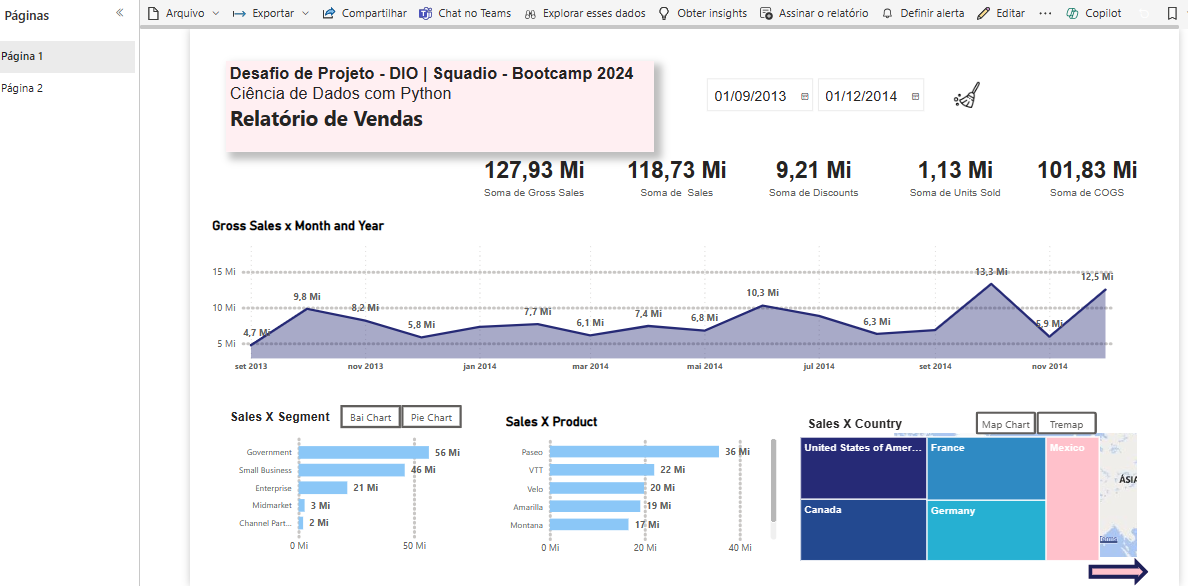

Layout of this report page (visuals, bound fields, positions):
{"tool":"powerbi","page":{"name":"Página 1","canvas":[1280,720],"ordinal":0},"visuals":[{"type":"card","fields":{"Values":["Sum(financials.Gross Sales)"]},"box":[353.4,136.3,184.5,106.1],"z":0},{"type":"textbox","box":[47,41,553.6,117],"z":2000},{"type":"card","fields":{"Values":["Sum(financials.Discounts)"]},"box":[715.2,136.3,183.3,106.1],"z":3000},{"type":"card","fields":{"Values":["Sum(financials. Sales)"]},"box":[537.9,136.3,183.3,106.1],"z":4000},{"type":"card","fields":{"Values":["Sum(financials.Units Sold)"]},"box":[898.5,136.3,183.3,106.1],"z":5000},{"type":"card","fields":{"Values":["Sum(financials.COGS)"]},"box":[1069.7,136.3,183.3,106.1],"z":6000},{"type":"slicer","fields":{"Values":["financials.Date"]},"box":[655.8,53.5,312.4,62.7],"z":7000},{"type":"areaChart","title":"Gross Sales x Month and Year","fields":{"Y":["Sum(financials.Gross Sales)"],"Category":["financials.Date.Variation.Hierarquia de datas.Ano","financials.Date.Variation.Hierarquia de datas.Mês"]},"box":[23.3,243.3,1190,210],"z":8000},{"type":"donutChart","title":"Pie Chart Segment","fields":{"Y":["Sum(financials.Gross Sales)"],"Category":["financials.Segment"]},"box":[46.7,518.3,305,166.7],"z":9000},{"type":"actionButton","title":"Botão - bai","box":[195,486.7,78.3,30],"z":9500},{"type":"clusteredBarChart","title":"Sales X Product","fields":{"Y":["Sum(financials.Gross Sales)"],"Category":["financials.Product"]},"box":[404,496.9,360.6,191.8],"z":10000},{"type":"actionButton","title":"Botão - pie","box":[273.3,486.7,78.3,30],"z":10500},{"type":"clusteredBarChart","title":"Bar Chart Segment","fields":{"Y":["Sum(financials.Gross Sales)"],"Category":["financials.Segment"]},"box":[47.2,517.2,325.1,167.8],"z":11000,"group":"g1"},{"type":"map","title":"Map Chart Country","fields":{"Size":["Sum(financials.Gross Sales)"],"Category":["financials.Country"]},"box":[909,521,318,164],"z":11000},{"type":"group","id":"g1","title":"Grupo 2","box":[47,487.2,325.3,197.8],"z":12000},{"type":"group","id":"g2","title":"Grupo 3","box":[788.7,495,388.3,193.6],"z":13000},{"type":"shape","box":[1162.1,684,77.8,36],"z":14000},{"type":"actionButton","title":"Botão - map","box":[1095,495,78.3,30],"z":14500,"group":"g2"},{"type":"actionButton","title":"Botão - tremap","box":[1016.6,495,78.3,30],"z":14750,"group":"g2"},{"type":"image","box":[983.3,61.7,43.3,46.7],"z":15000},{"type":"textbox","box":[793.9,496.9,208.2,41.7],"z":15000,"group":"g2"},{"type":"treemap","title":"TreeMap Country","fields":{"Values":["Sum(financials.Gross Sales)"],"Group":["financials.Country"]},"box":[788.7,527,388.3,161.7],"z":15500,"group":"g2"},{"type":"textbox","box":[47,487.2,181.8,42],"z":22000,"group":"g1"}]}

Visuals, with their boxes on the page's 1280x720 design canvas (x1, y1, x2, y2). These are canvas units, not pixel positions in the 1188x586 screenshot, which may show the page scaled, cropped or inside an application window:
card - Sum(financials.Gross Sales): <region>353, 136, 538, 242</region>
textbox: <region>47, 41, 601, 158</region>
card - Sum(financials.Discounts): <region>715, 136, 898, 242</region>
card - Sum(financials. Sales): <region>538, 136, 721, 242</region>
card - Sum(financials.Units Sold): <region>898, 136, 1082, 242</region>
card - Sum(financials.COGS): <region>1070, 136, 1253, 242</region>
slicer - financials.Date: <region>656, 54, 968, 116</region>
"Gross Sales x Month and Year" areaChart: <region>23, 243, 1213, 453</region>
"Pie Chart Segment" donutChart: <region>47, 518, 352, 685</region>
"Botão - bai" actionButton: <region>195, 487, 273, 517</region>
"Sales X Product" clusteredBarChart: <region>404, 497, 765, 689</region>
"Botão - pie" actionButton: <region>273, 487, 352, 517</region>
"Bar Chart Segment" clusteredBarChart: <region>47, 517, 372, 685</region>
"Map Chart Country" map: <region>909, 521, 1227, 685</region>
"Grupo 2" group: <region>47, 487, 372, 685</region>
"Grupo 3" group: <region>789, 495, 1177, 689</region>
shape: <region>1162, 684, 1240, 720</region>
"Botão - map" actionButton: <region>1095, 495, 1173, 525</region>
"Botão - tremap" actionButton: <region>1017, 495, 1095, 525</region>
image: <region>983, 62, 1027, 108</region>
textbox: <region>794, 497, 1002, 539</region>
"TreeMap Country" treemap: <region>789, 527, 1177, 689</region>
textbox: <region>47, 487, 229, 529</region>
